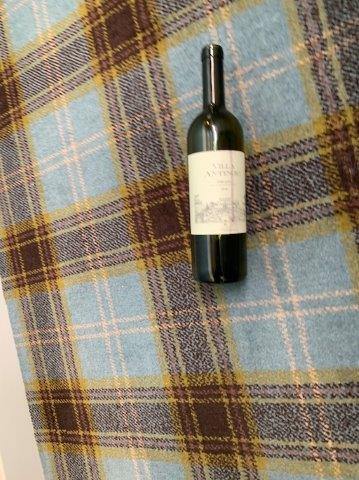botolkaca: (188, 44, 247, 284)
